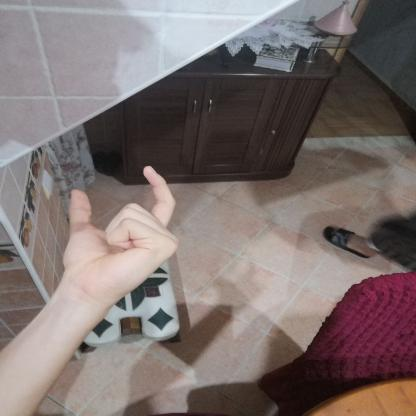NOON: (48, 156, 195, 310)
